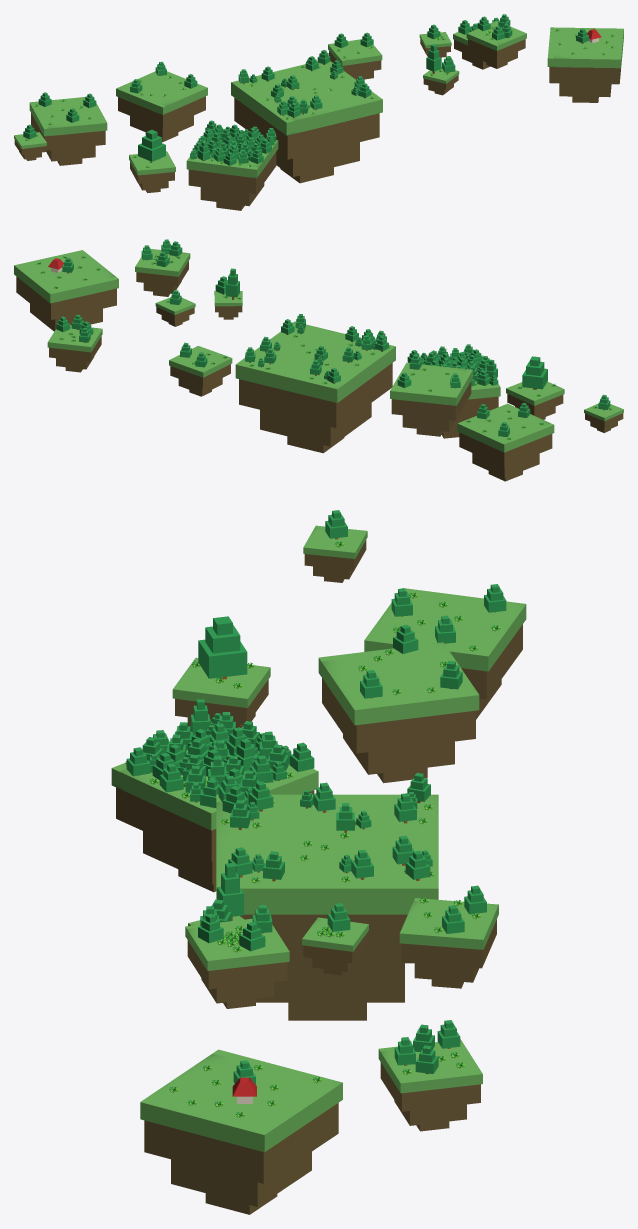
File: board_sky.obj
The picture shows the model from 3 angles, top to bottom: view 1: azimuth 30°, elevation 25°; view 2: azimuth 150°, elevation 25°; view 3: azimuth 270°, elevation 25°; orthographic projection. The views are drawn at different scales.
Parts seen in each view (by area): view 1: 立方体, Cube, Cube.001; view 2: 立方体, Cube, Cube.001; view 3: 立方体, Cube, Cube.001.
Part boxes in pixels (x1,y1,x2,y2): 立方体: (14, 21, 623, 210); Cube: (23, 14, 588, 165); Cube.001: (24, 26, 614, 168); 立方体: (14, 249, 623, 481); Cube: (56, 239, 610, 436); Cube.001: (36, 254, 611, 440); 立方体: (111, 525, 526, 1214); Cube: (126, 510, 506, 1084); Cube.001: (125, 541, 506, 1117).
Bounding box in the file's own units: 125 × 25.73 × 38.04.
Materials: 4 (4 with a texture image).
